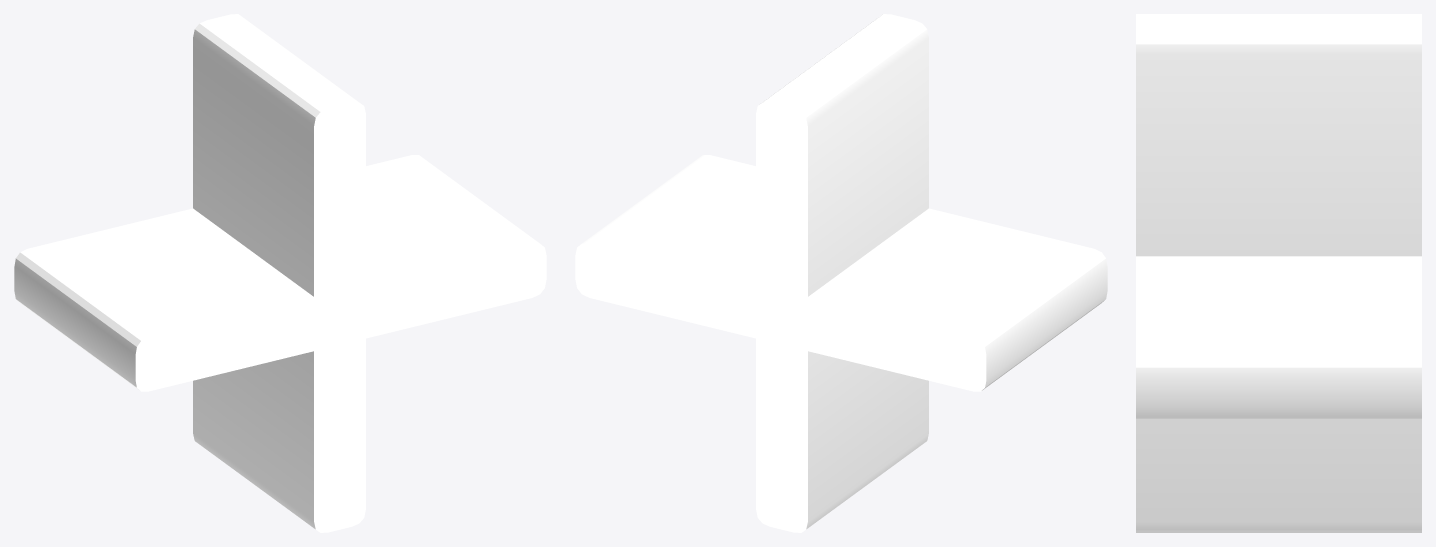
File: a9ccb48f-e8c5-48fa-b87f-34b3bcd9c433.glb
3 views of the same model, side by side, from view 1: azimuth 30°, elevation 25°; view 2: azimuth 150°, elevation 25°; view 3: azimuth 270°, elevation 25° (orthographic). The views are drawn at different scales.
Parts seen in each view (by area): view 1: +_Soul_White; view 2: +_Soul_White; view 3: +_Soul_White.
Part boxes in pixels (x1,y1,x2,y2): +_Soul_White: (14,14,546,532); +_Soul_White: (575,14,1107,532); +_Soul_White: (1136,14,1421,532).
Size of what is drawn, in the model's own units: 0.0882 by 0.0869 by 0.045.
Materials: 2 (2 with a texture image).
